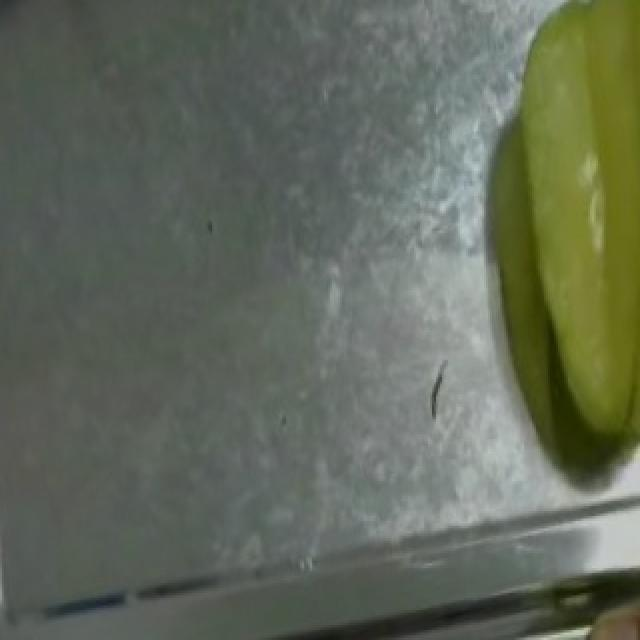fruit: (474, 2, 640, 392)
